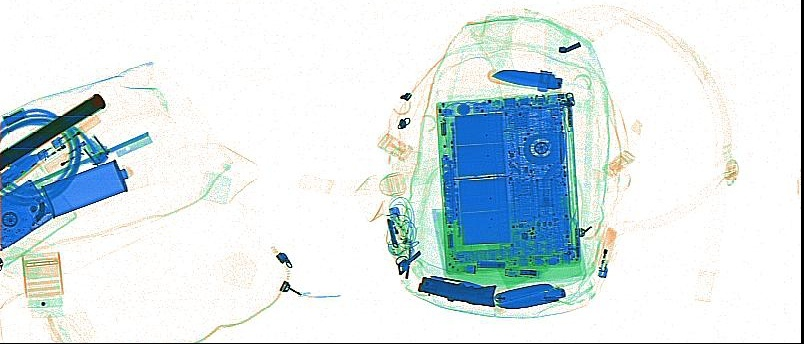knife: (416, 275, 496, 306), (493, 282, 564, 307), (484, 67, 561, 90)
lighter: (43, 138, 96, 172), (50, 113, 100, 147), (597, 226, 614, 276), (387, 204, 404, 245)
zippooil: (41, 159, 132, 216)
